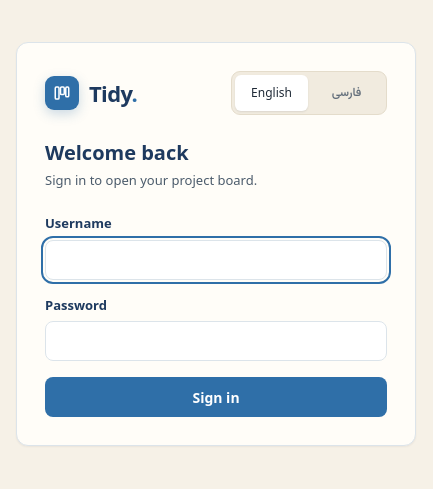
Scenario: SignIn › shows one message for a wrong username or password and clears the password
In the field labelled "Username": (216, 260) [45, 240, 387, 280], type "user"
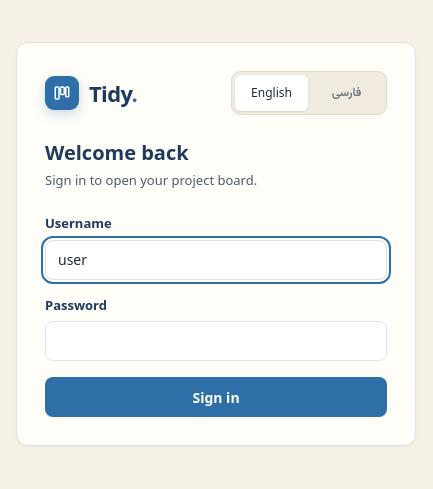
In the password field labelled "Password": (216, 341) [45, 321, 387, 361], type "nope"
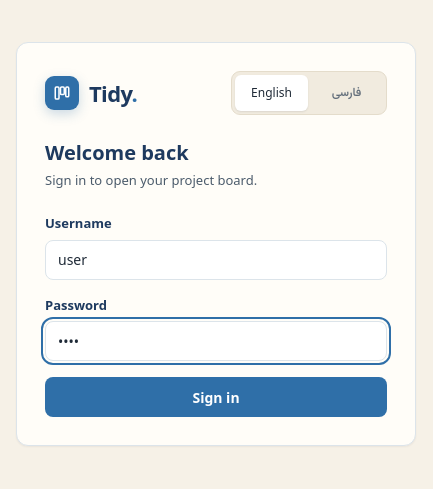
Click the button "Sign in": (216, 397) [45, 377, 387, 417]
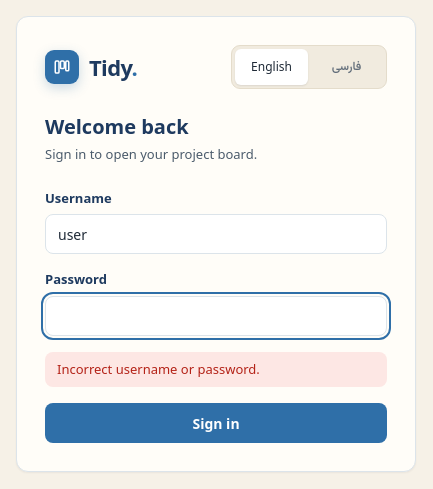
Expected: the message reads "Incorrect username or password.", [57, 360, 260, 378]
Expected: the password field labelled "Password" is empty, [45, 296, 387, 336]
